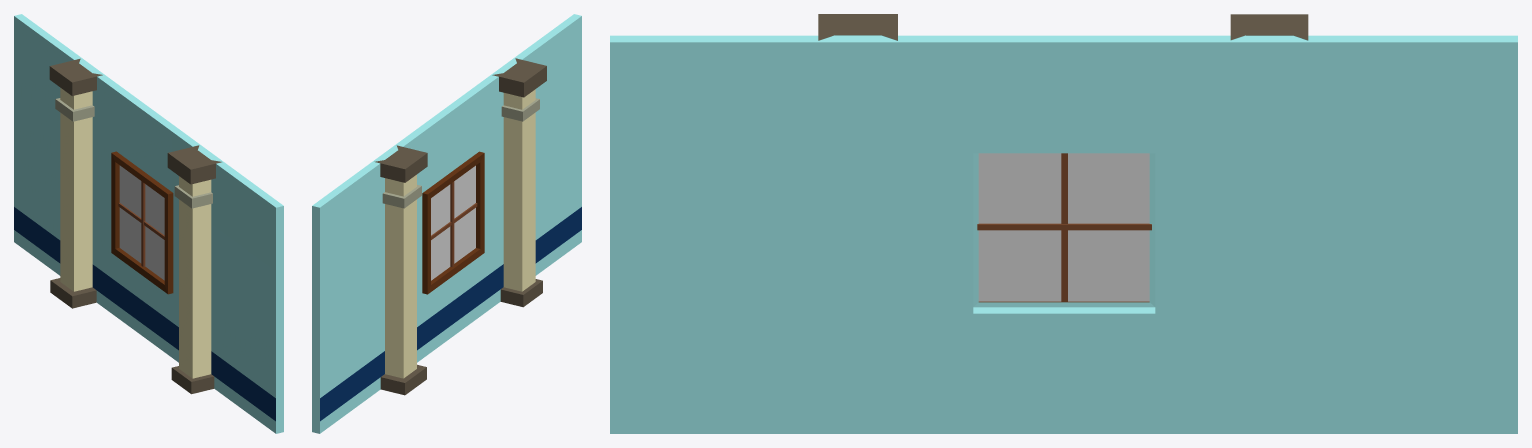
File: wall_with_window.fbx
3 renders of one model, left to right at view 1: azimuth 30°, elevation 25°; view 2: azimuth 150°, elevation 25°; view 3: azimuth 270°, elevation 25°, orthographic. The views are drawn at different scales.
Visible parts, largest first — view 1: Wall with window; view 2: Wall with window; view 3: Wall with window.
Boxes of the visible parts, <box> form: Wall with window: <box>14,14,283,433</box>; Wall with window: <box>312,14,581,433</box>; Wall with window: <box>610,14,1517,433</box>.
Bounding box in the file's own units: 1050 × 76.37 × 500.
